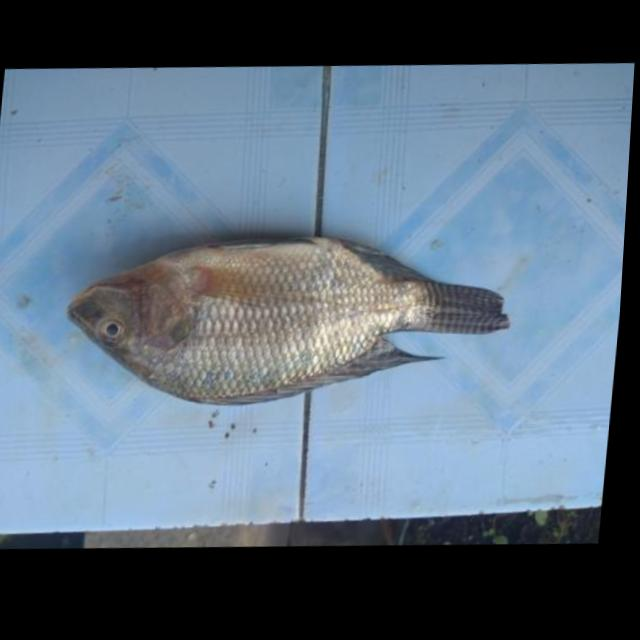Tilapia: (56, 213, 522, 423)
